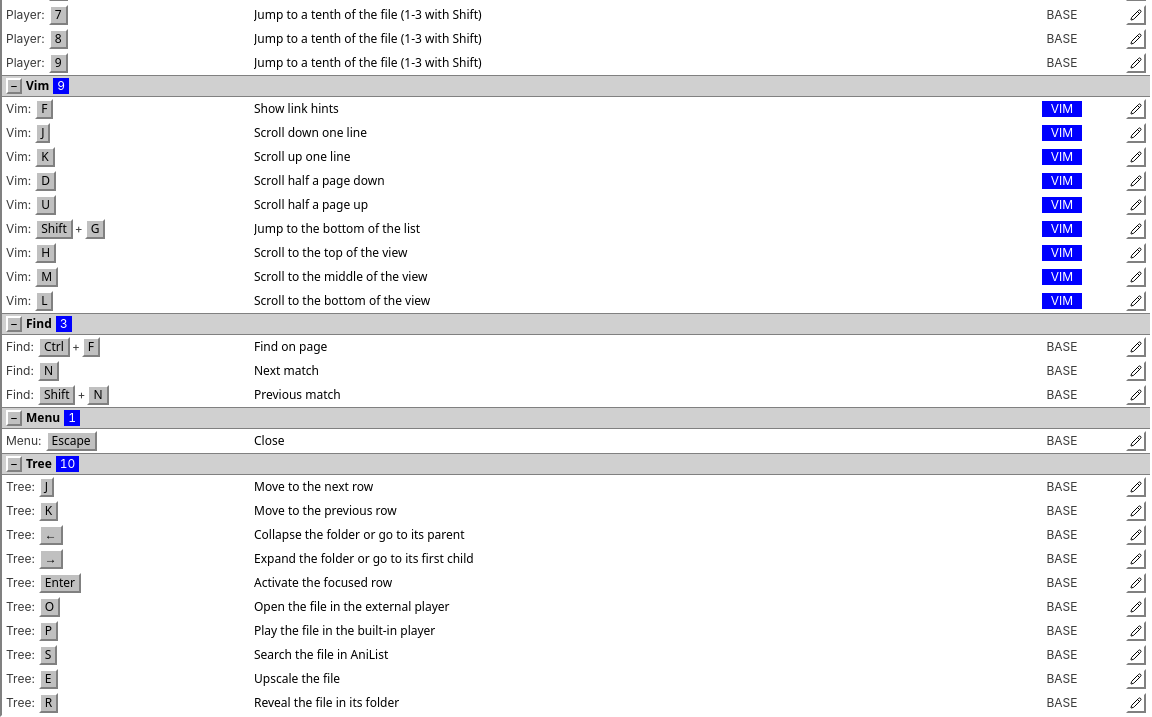
Test: SettingsKeybinds editor › records a chord and saves it into the store
(page scrolled)
Click the button named "edit tree.move.down" at (1136, 487), box [1126,477,1146,497]
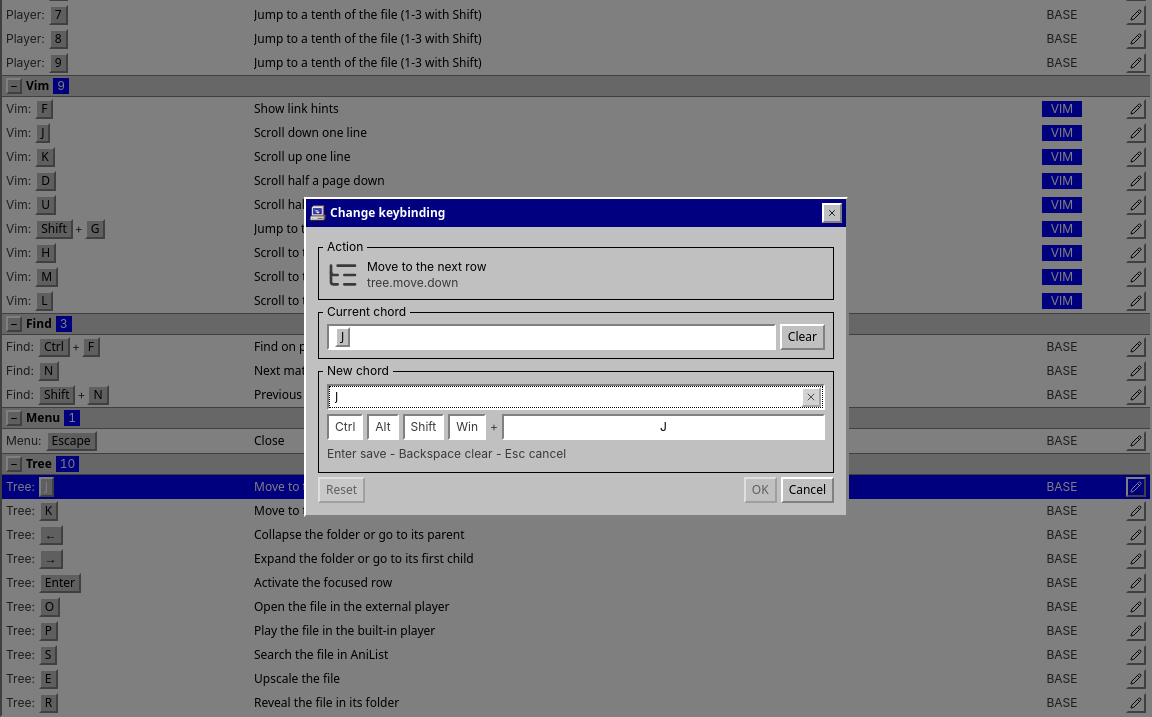
Press x in the field named "Press a chord...", box [327,384,825,410]
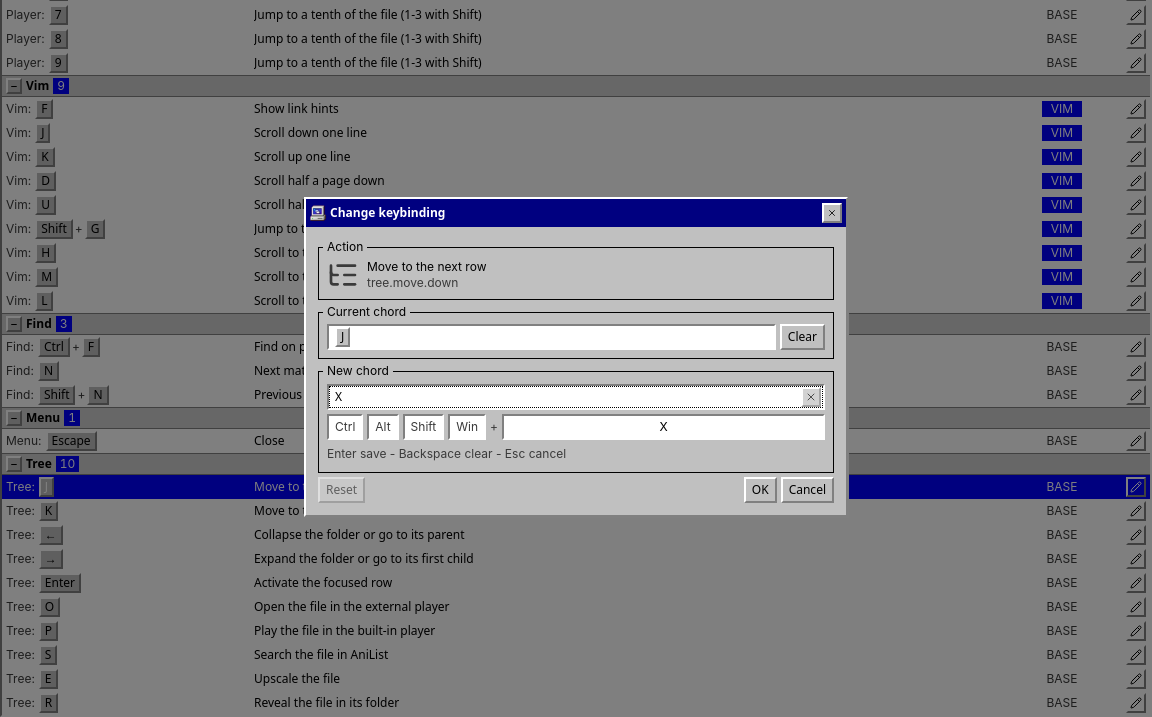
Click the button "OK" at (760, 490), box [744,477,777,503]
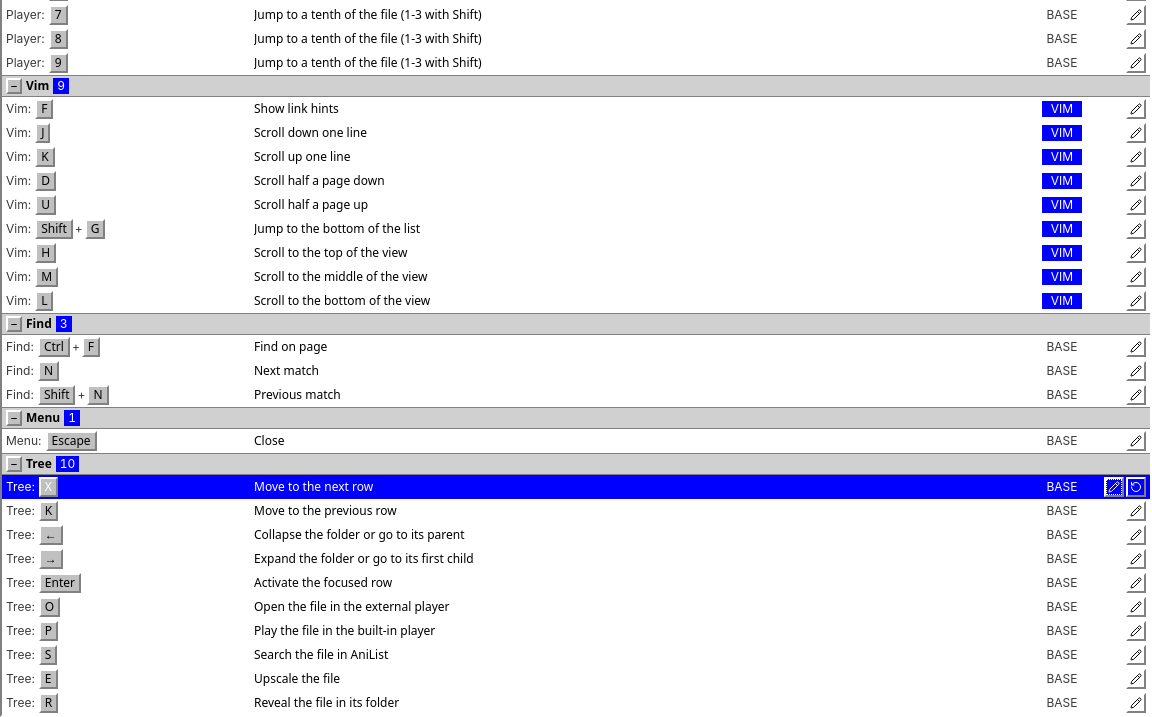
Now the row "Tree: X Move to the next row BASE" is shown, box [2,475,1150,499]
